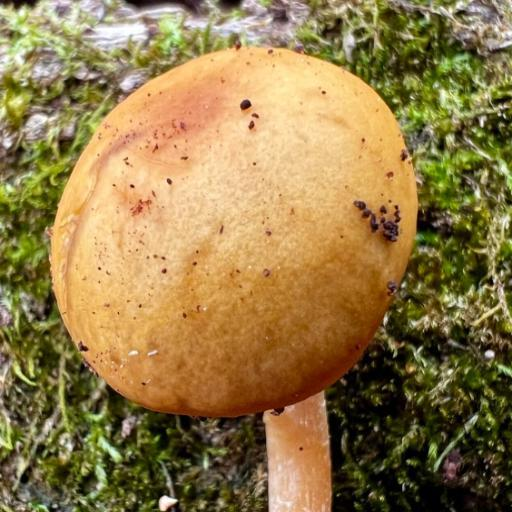mushroom: (38, 47, 427, 470)
